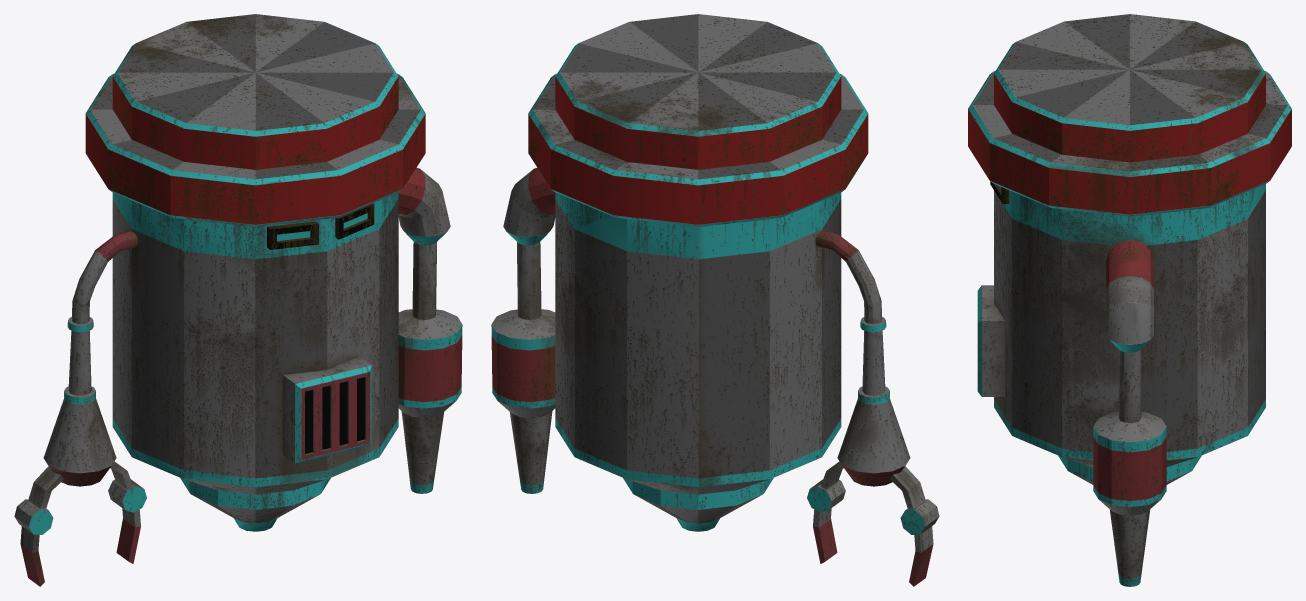
File: STÄDROBOT_ANIM_IDLE_1.fbx
The picture shows the model from 3 angles, left to right: view 1: azimuth 30°, elevation 25°; view 2: azimuth 150°, elevation 25°; view 3: azimuth 270°, elevation 25°; orthographic projection. The views are drawn at different scales.
Visible parts, largest first — view 1: MUN; view 2: MUN; view 3: MUN.
Part boxes in pixels (left/top/right/bottom): MUN: left=14, top=14, right=462, bottom=586; MUN: left=491, top=14, right=939, bottom=586; MUN: left=968, top=14, right=1291, bottom=586.
Bounding box in the file's own units: 352 × 353 × 238.
